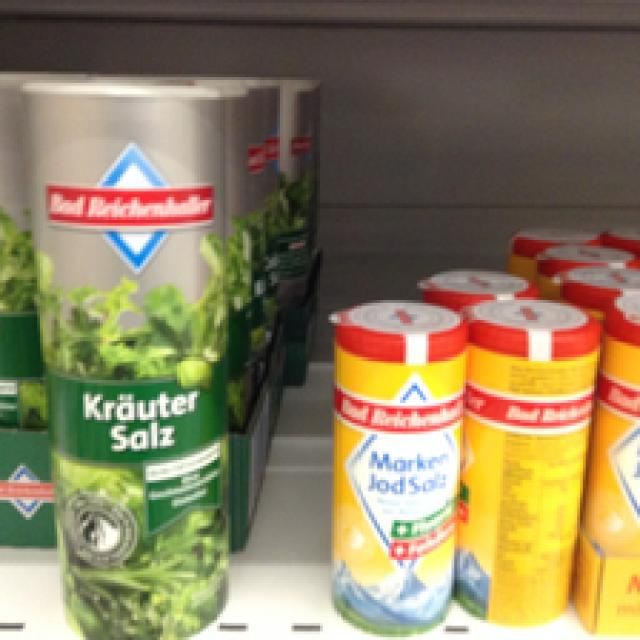groceries: (26, 72, 226, 637), (328, 297, 466, 634), (463, 294, 597, 620)
